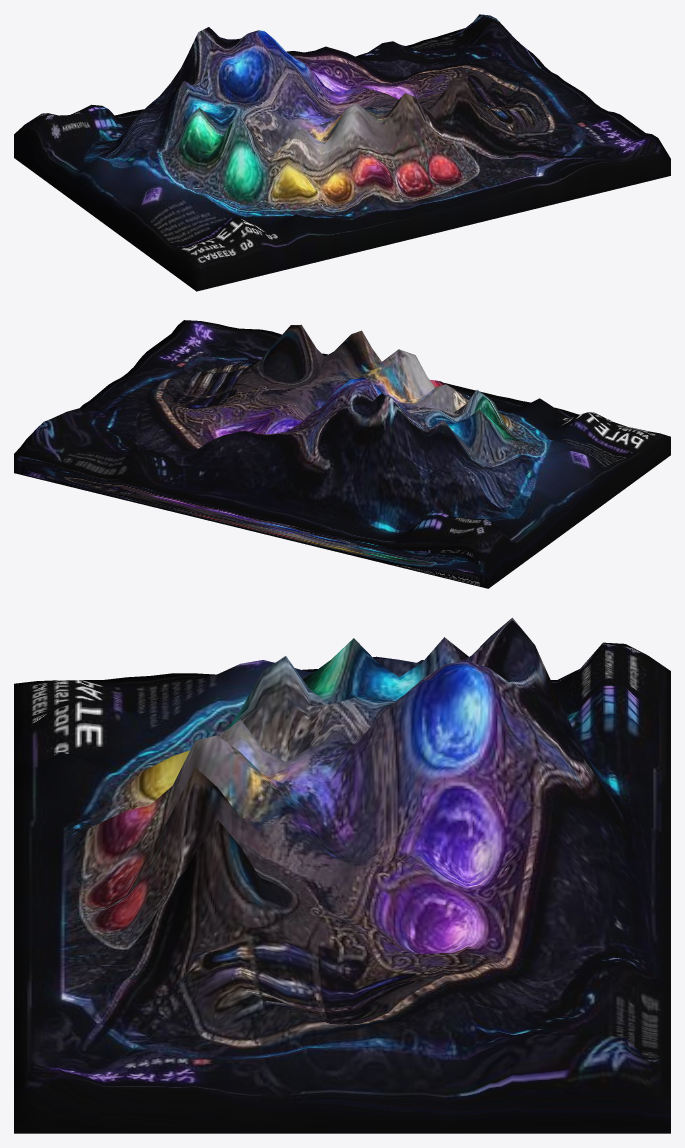
The model's file is CAREER_09_Tool_03_Palette.glb.
3 views of the same model, one above another, from view 1: azimuth 30°, elevation 25°; view 2: azimuth 150°, elevation 25°; view 3: azimuth 270°, elevation 25° (orthographic). The views are drawn at different scales.
Visible parts, largest first — view 1: CAREER_09_Tool_03_Palette; view 2: CAREER_09_Tool_03_Palette; view 3: CAREER_09_Tool_03_Palette.
Boxes of the visible parts, left/top/right/bottom form: CAREER_09_Tool_03_Palette: left=14, top=14, right=670, bottom=291; CAREER_09_Tool_03_Palette: left=14, top=320, right=670, bottom=588; CAREER_09_Tool_03_Palette: left=14, top=617, right=670, bottom=1133.
Size of the model in its own units: 2 by 0.51 by 1.33.
Materials: 1 (1 with a texture image).
